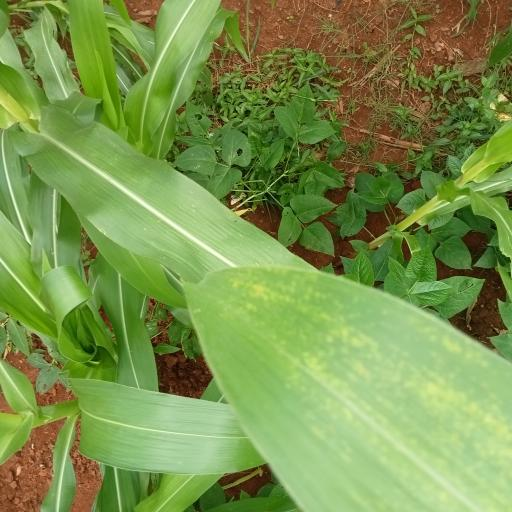Corn_Brown_Spots: (184, 261, 512, 512)
